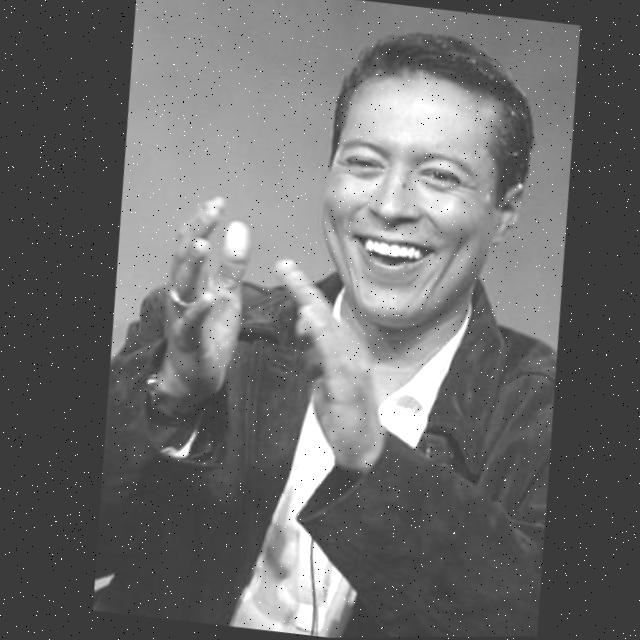face: (299, 59, 518, 344)
